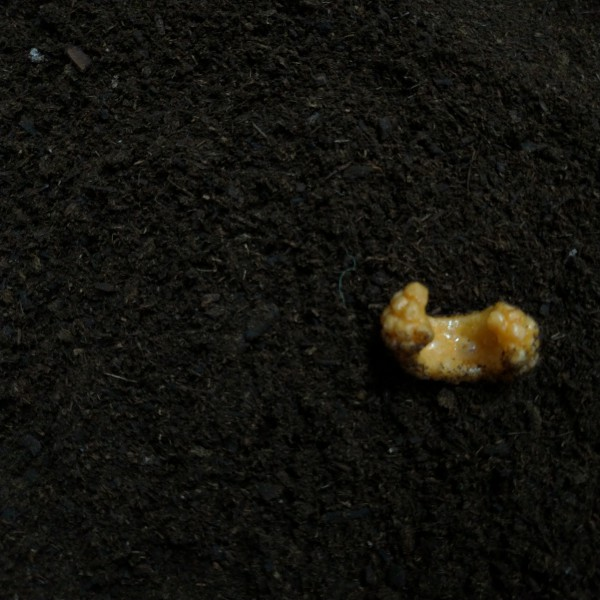eggs: (385, 280, 547, 382)
